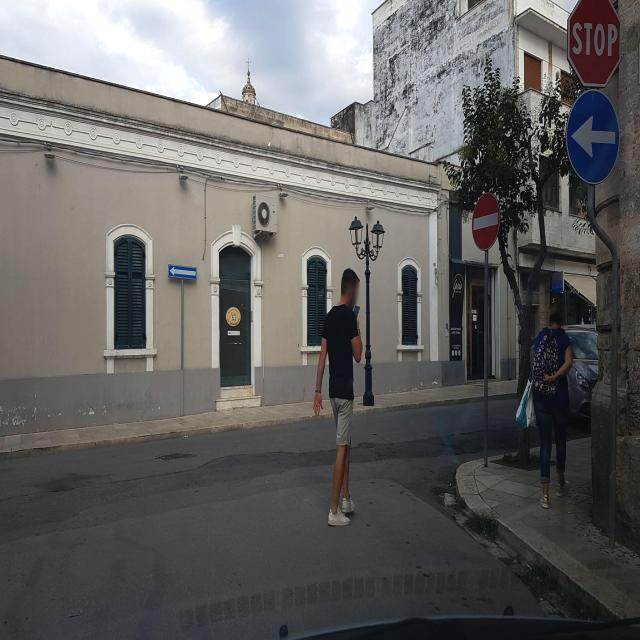car: (530, 324, 604, 428)
